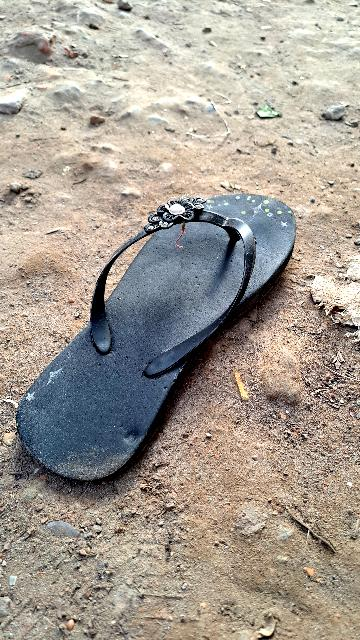sandal: (0, 140, 319, 500)
